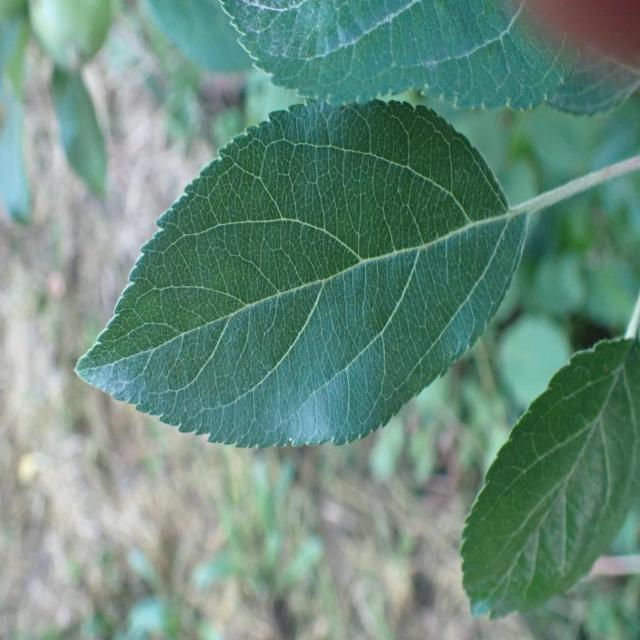healthy: (76, 98, 528, 451), (460, 335, 640, 622), (220, 1, 634, 114)
